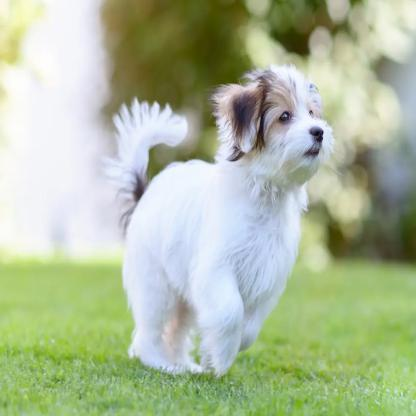dog: (101, 59, 341, 384)
